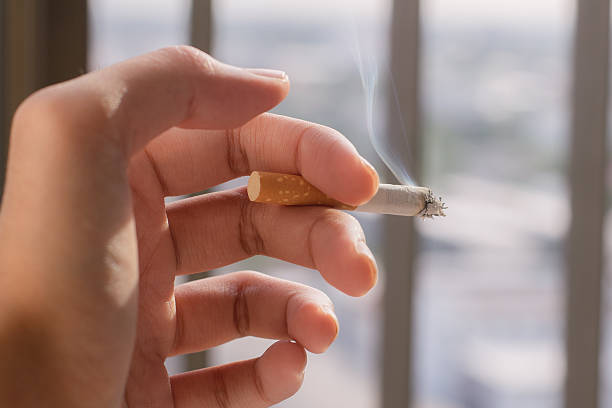cigarette: (243, 170, 449, 217)
